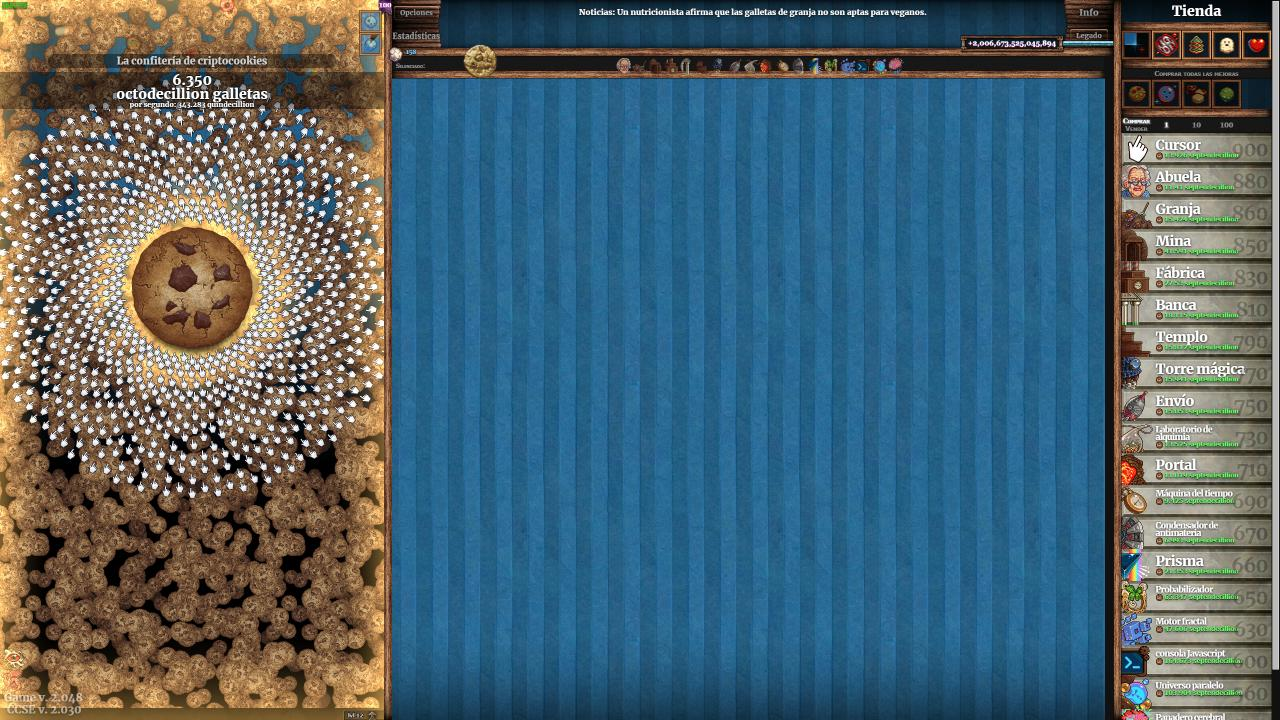GoldenCookie: (463, 42, 498, 81)
